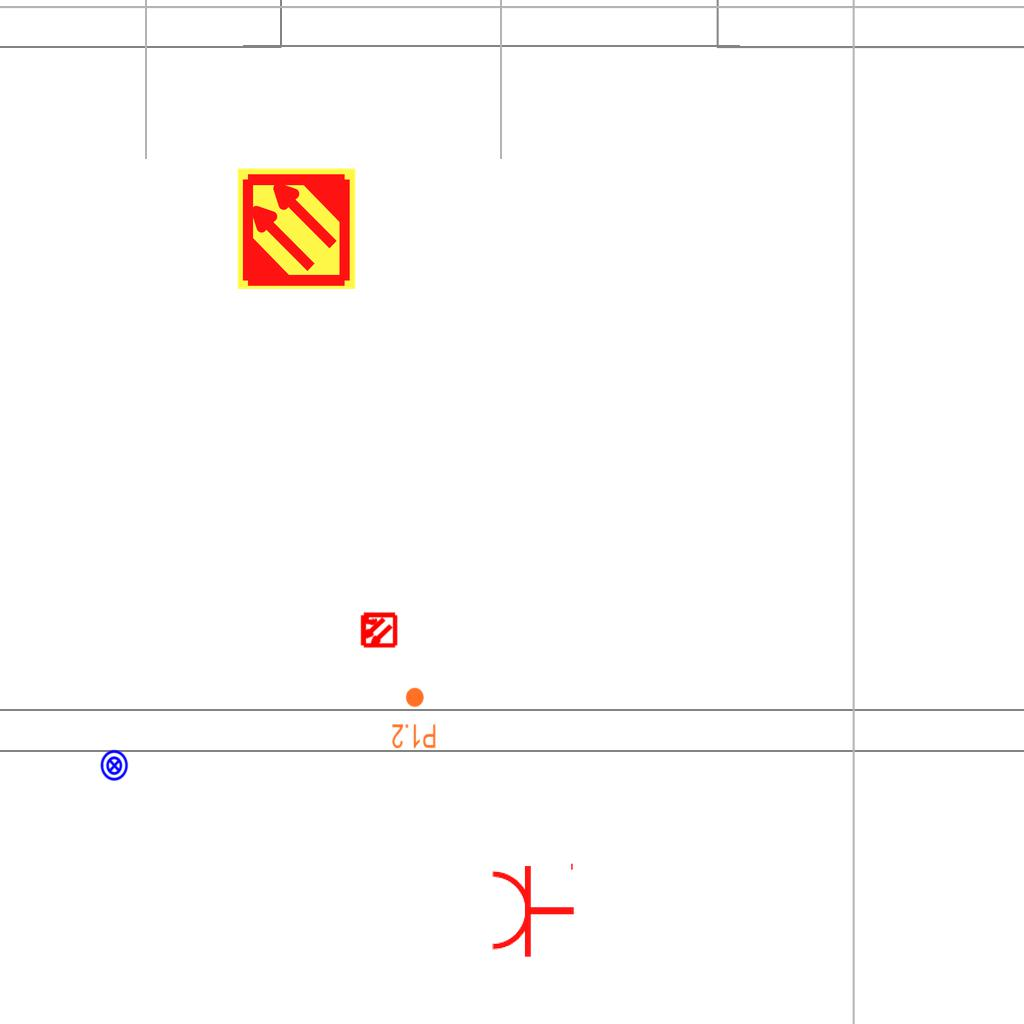ASR_Ansaugrauchmelder: (234, 166, 359, 291)
Downlight_LED_Einbauleuchten_Flur: (391, 686, 437, 750)
OT_Multisensormelder_(Kombination_RMO_WMD): (350, 602, 406, 658)
Schukosteckdose_einfach: (489, 859, 576, 959)
Taster_beleuchtet: (98, 749, 131, 782)
